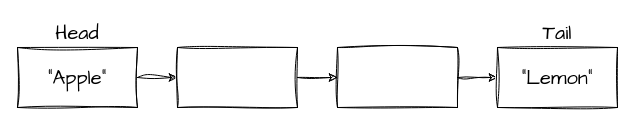
This 635x125 diagram has some shape labels left out. Each missing label, with the centre of its shape:
"Banana": the point at 237,77
"Orange": the point at 397,77
